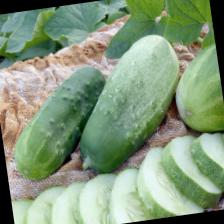cucumber: (64, 31, 193, 176), (2, 63, 119, 184)
